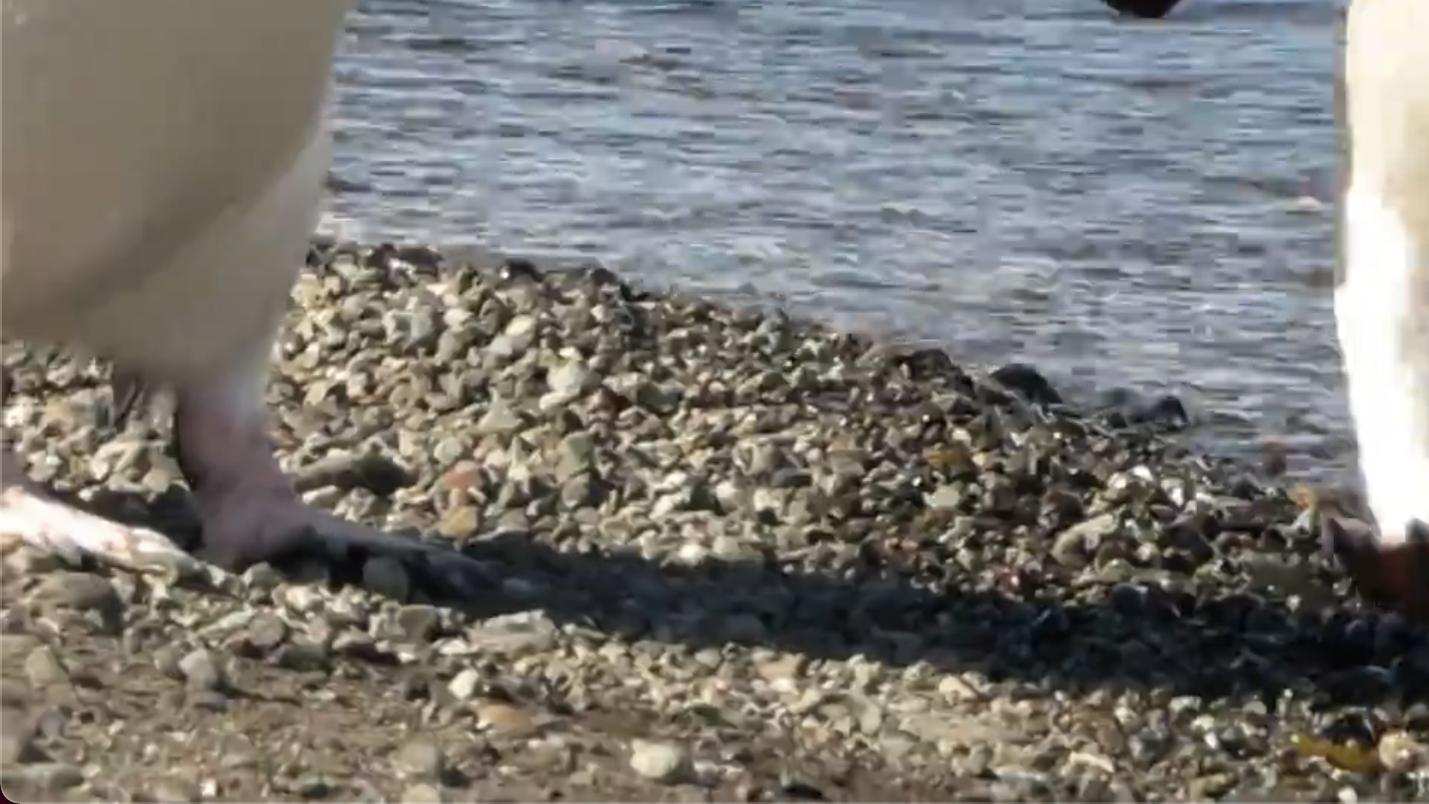Chinstrap Penguin: (0, 0, 841, 567), (1036, 0, 1429, 729)
